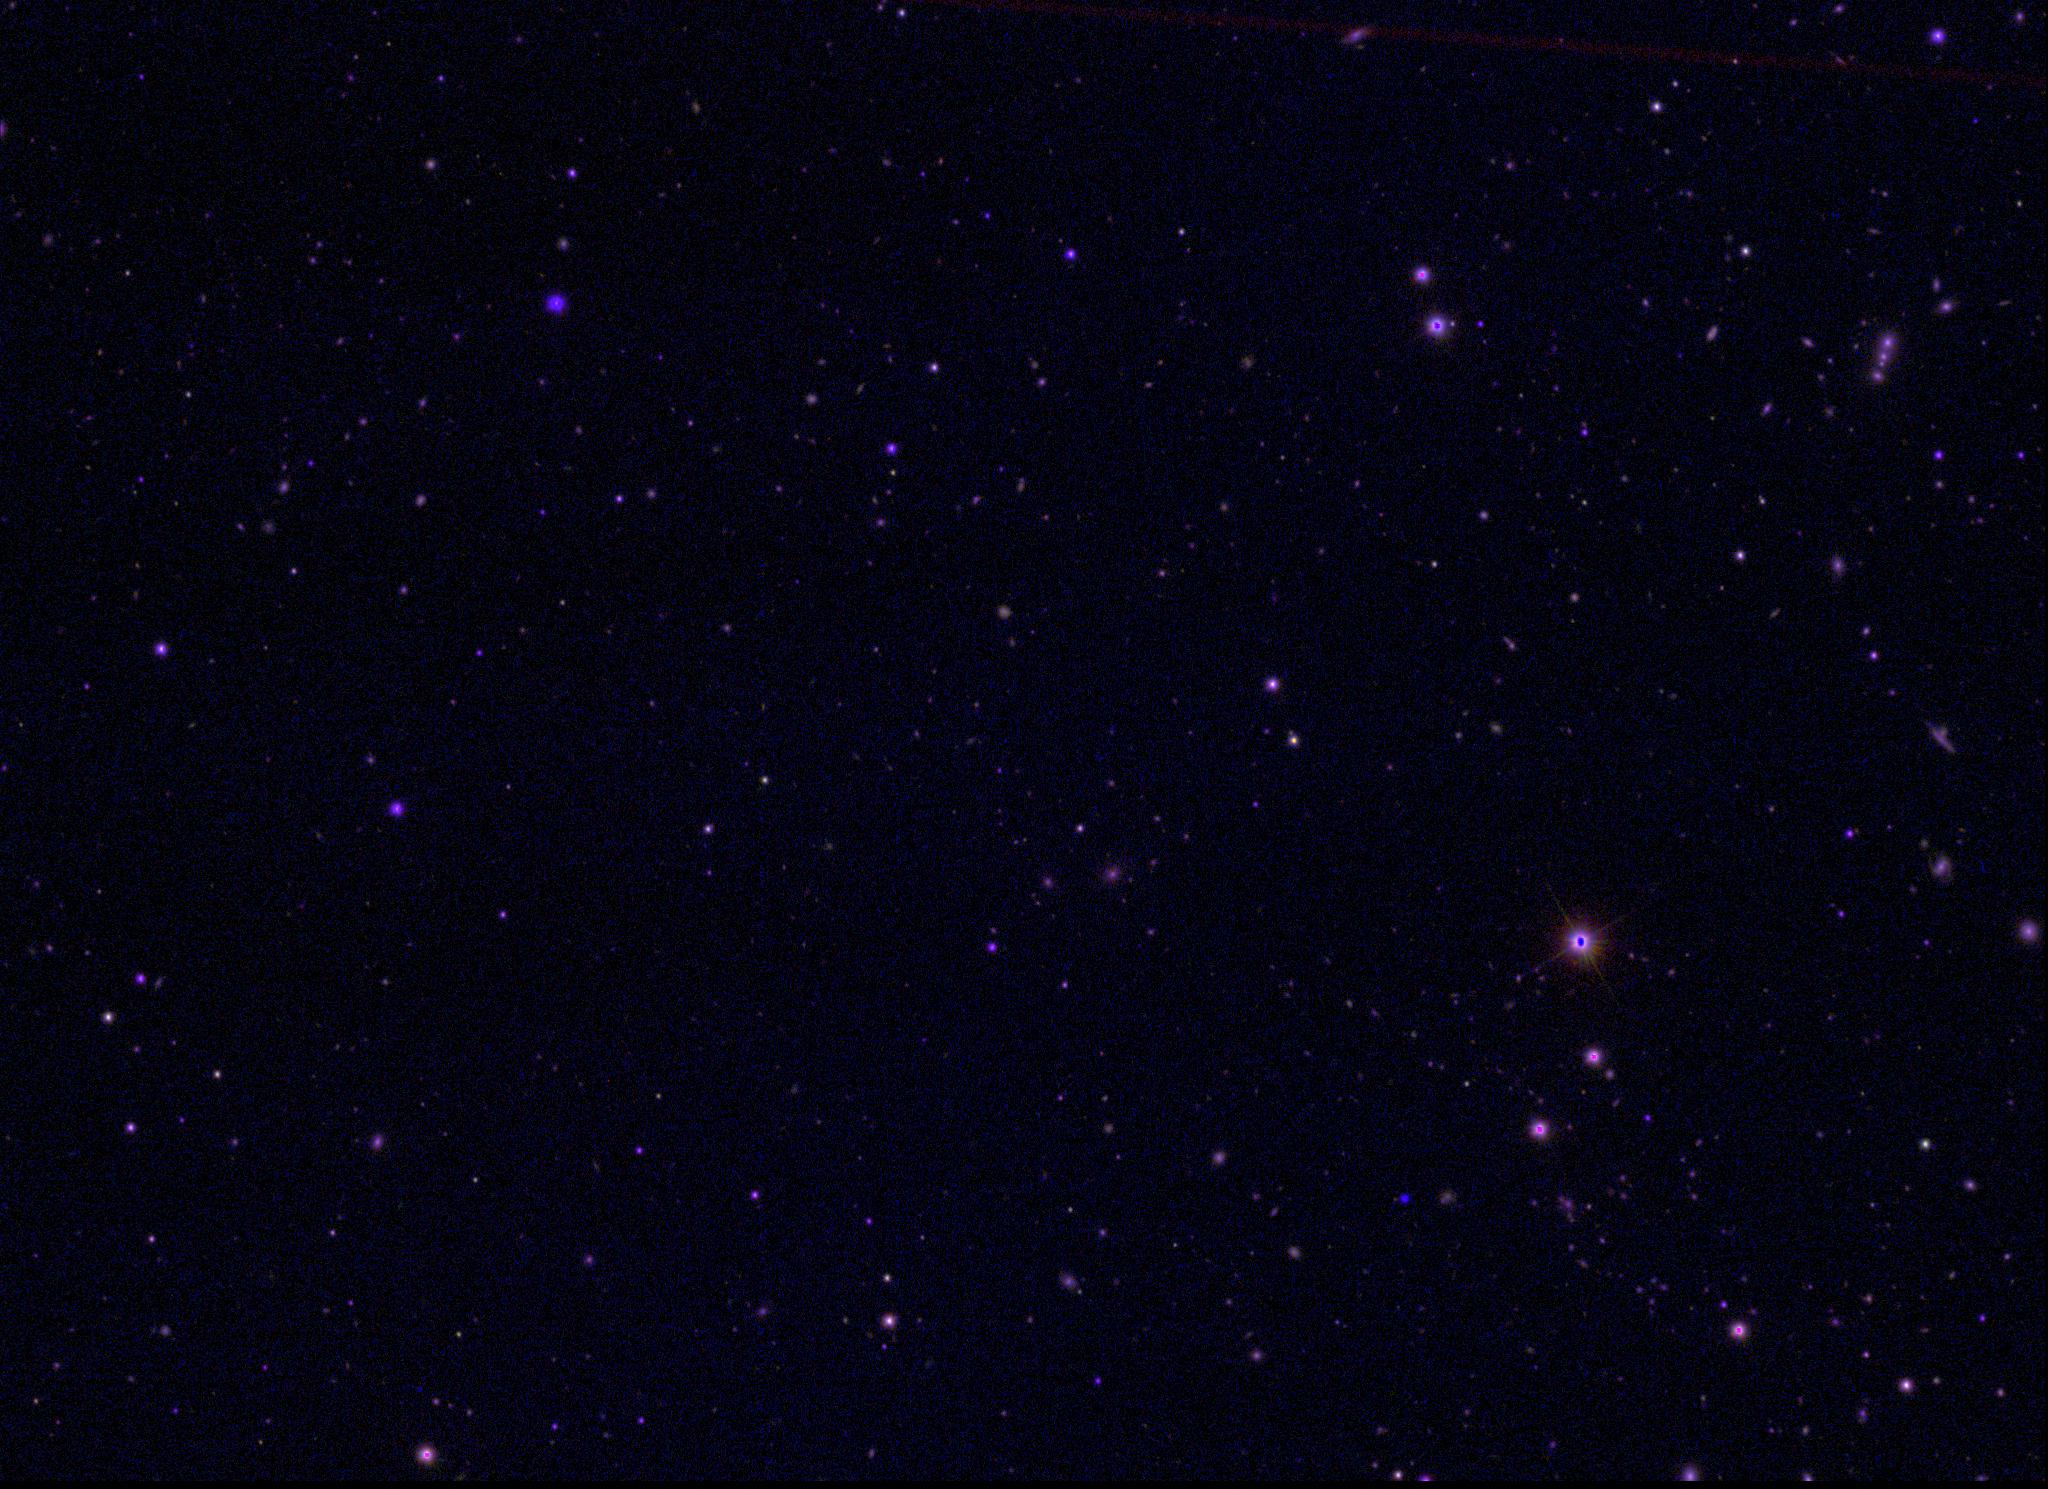L: (1398, 1192, 1410, 1206)
